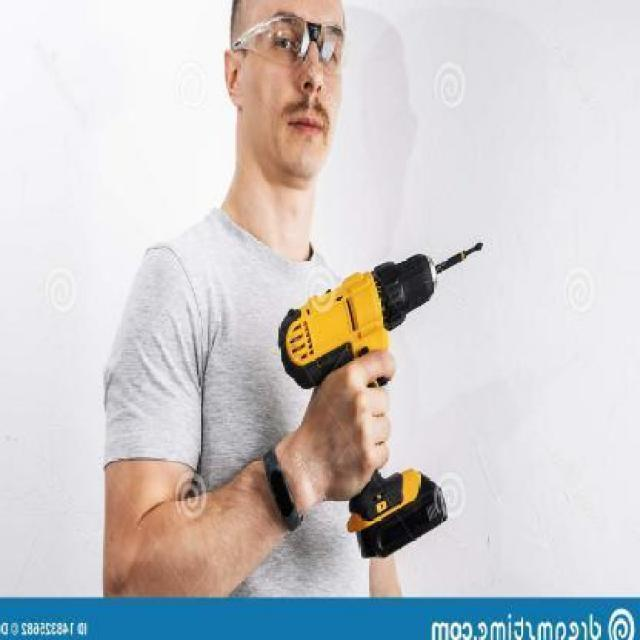Goggles: (226, 11, 357, 80)
